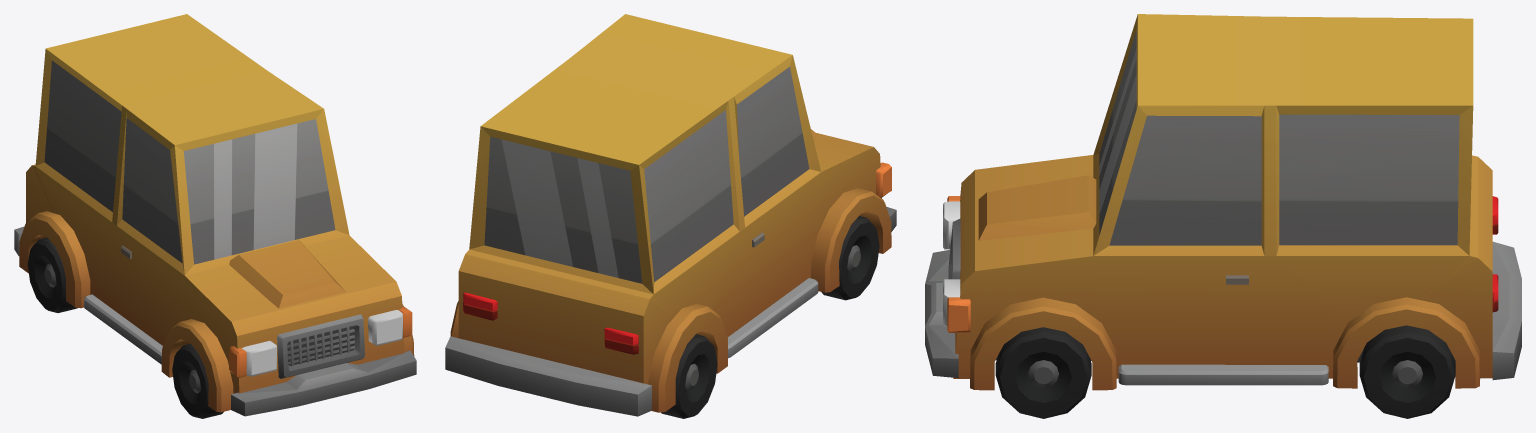
Rendered from Car_5_10.fbx.
3 views of the same model, side by side, from view 1: azimuth 30°, elevation 25°; view 2: azimuth 150°, elevation 25°; view 3: azimuth 270°, elevation 25° (orthographic). The views are drawn at different scales.
Parts seen in each view (by area): view 1: Car_5_10, W_br, W_fr; view 2: Car_5_10, W_br, W_fr; view 3: Car_5_10, W_bl, W_fl.
Part boxes in pixels (<box>): Car_5_10: <box>14,14,416,416</box>; W_br: <box>27,237,77,312</box>; W_fr: <box>172,343,223,418</box>; Car_5_10: <box>445,14,896,416</box>; W_br: <box>661,334,717,418</box>; W_fr: <box>821,216,879,300</box>; Car_5_10: <box>925,14,1521,390</box>; W_bl: <box>1359,325,1455,418</box>; W_fl: <box>995,327,1091,418</box>.
Bounding box in the file's own units: 1.13 × 1.3 × 2.33.
